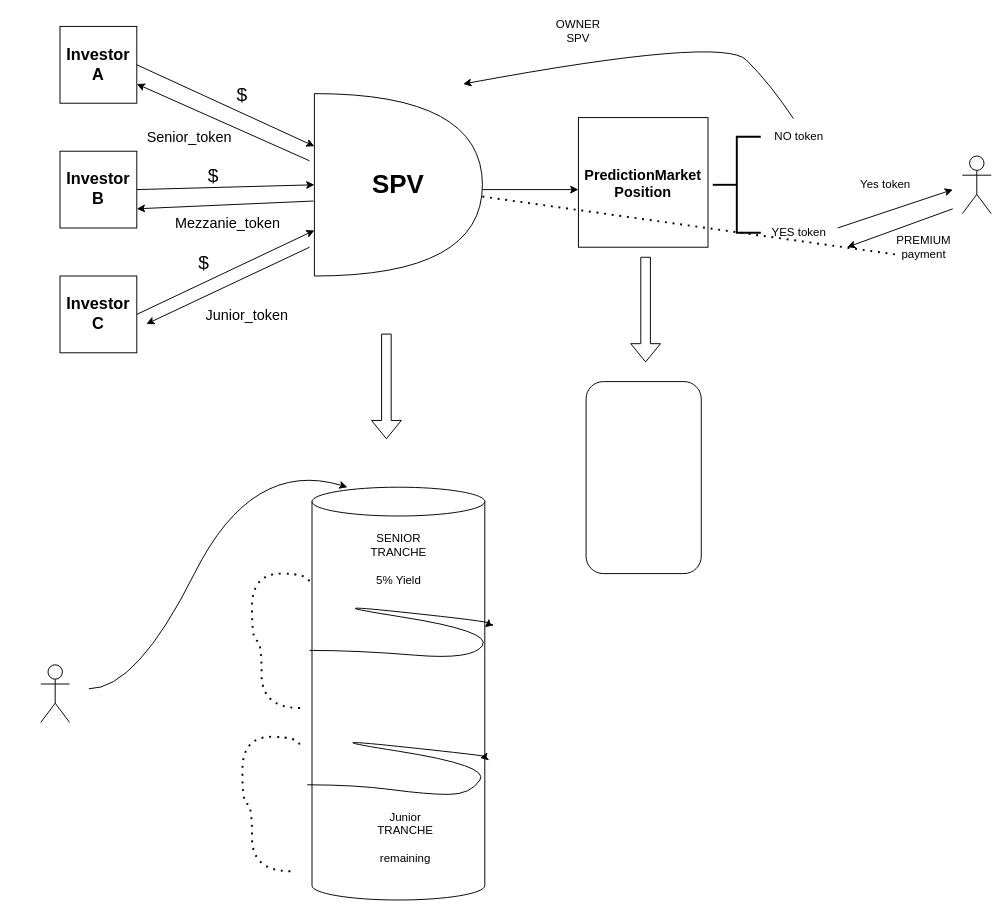
This 1008x917 diagram has some shape labels left out. The box of each missing label's shape, as (x1, y1, x2, y2) in pixels:
EVENT to protect Collateral: provied by SPV Deadline: (585, 381, 701, 574)
Mezzanie TRANCHE 12% Yield: (311, 486, 485, 900)
Premium payer: (40, 664, 70, 722)
